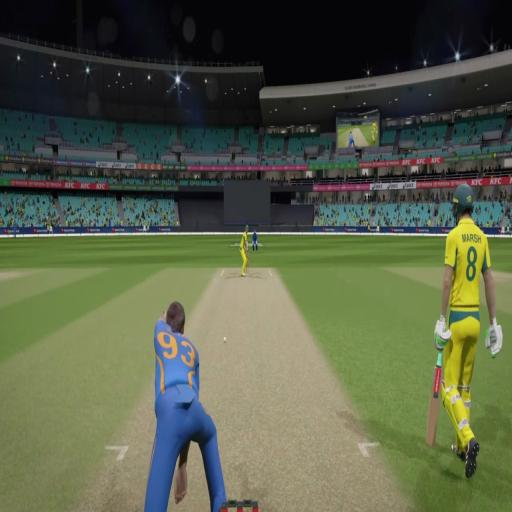ball: (220, 334, 228, 346)
